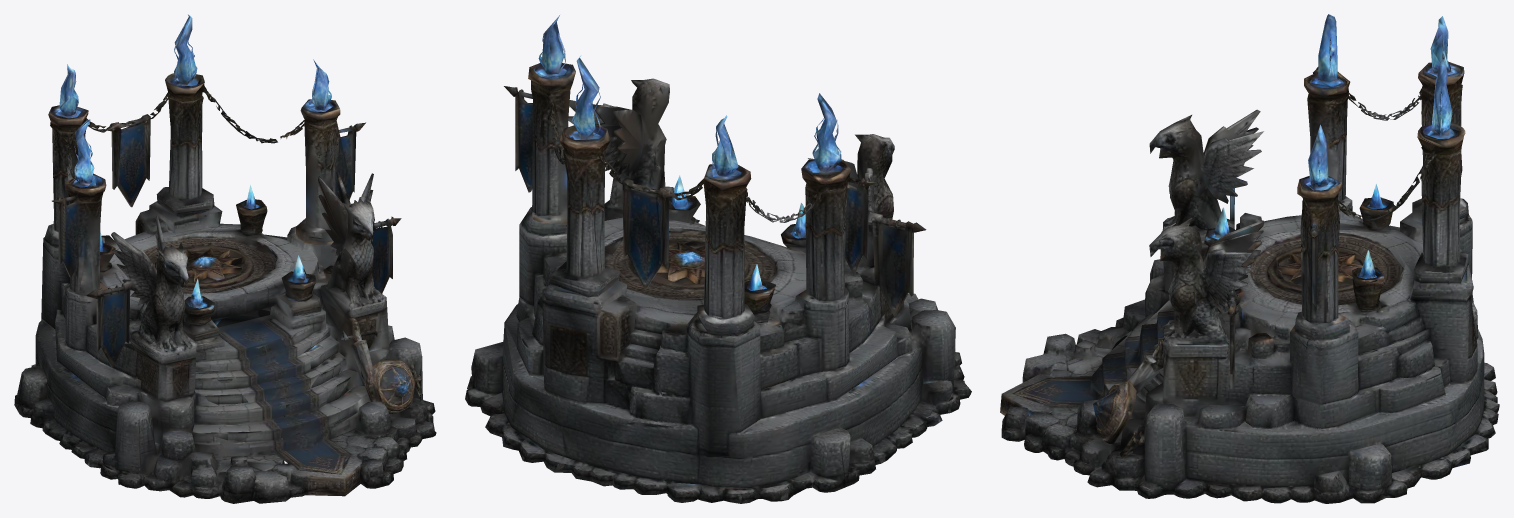
The model's file is ritueel.glb.
3 renders of one model, left to right at view 1: azimuth 30°, elevation 25°; view 2: azimuth 150°, elevation 25°; view 3: azimuth 270°, elevation 25°, orthographic. The views are drawn at different scales.
Parts seen in each view (by area): view 1: node_0; view 2: node_0; view 3: node_0.
Part boxes in pixels (x1,y1,x2,y2): node_0: (14,14,436,503); node_0: (465,15,971,503); node_0: (1000,14,1499,503).
Bounding box in the file's own units: 0.7687 × 0.7439 × 0.898.
Materials: 1 (1 with a texture image).
